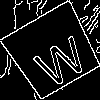W: (27, 26, 92, 91)
